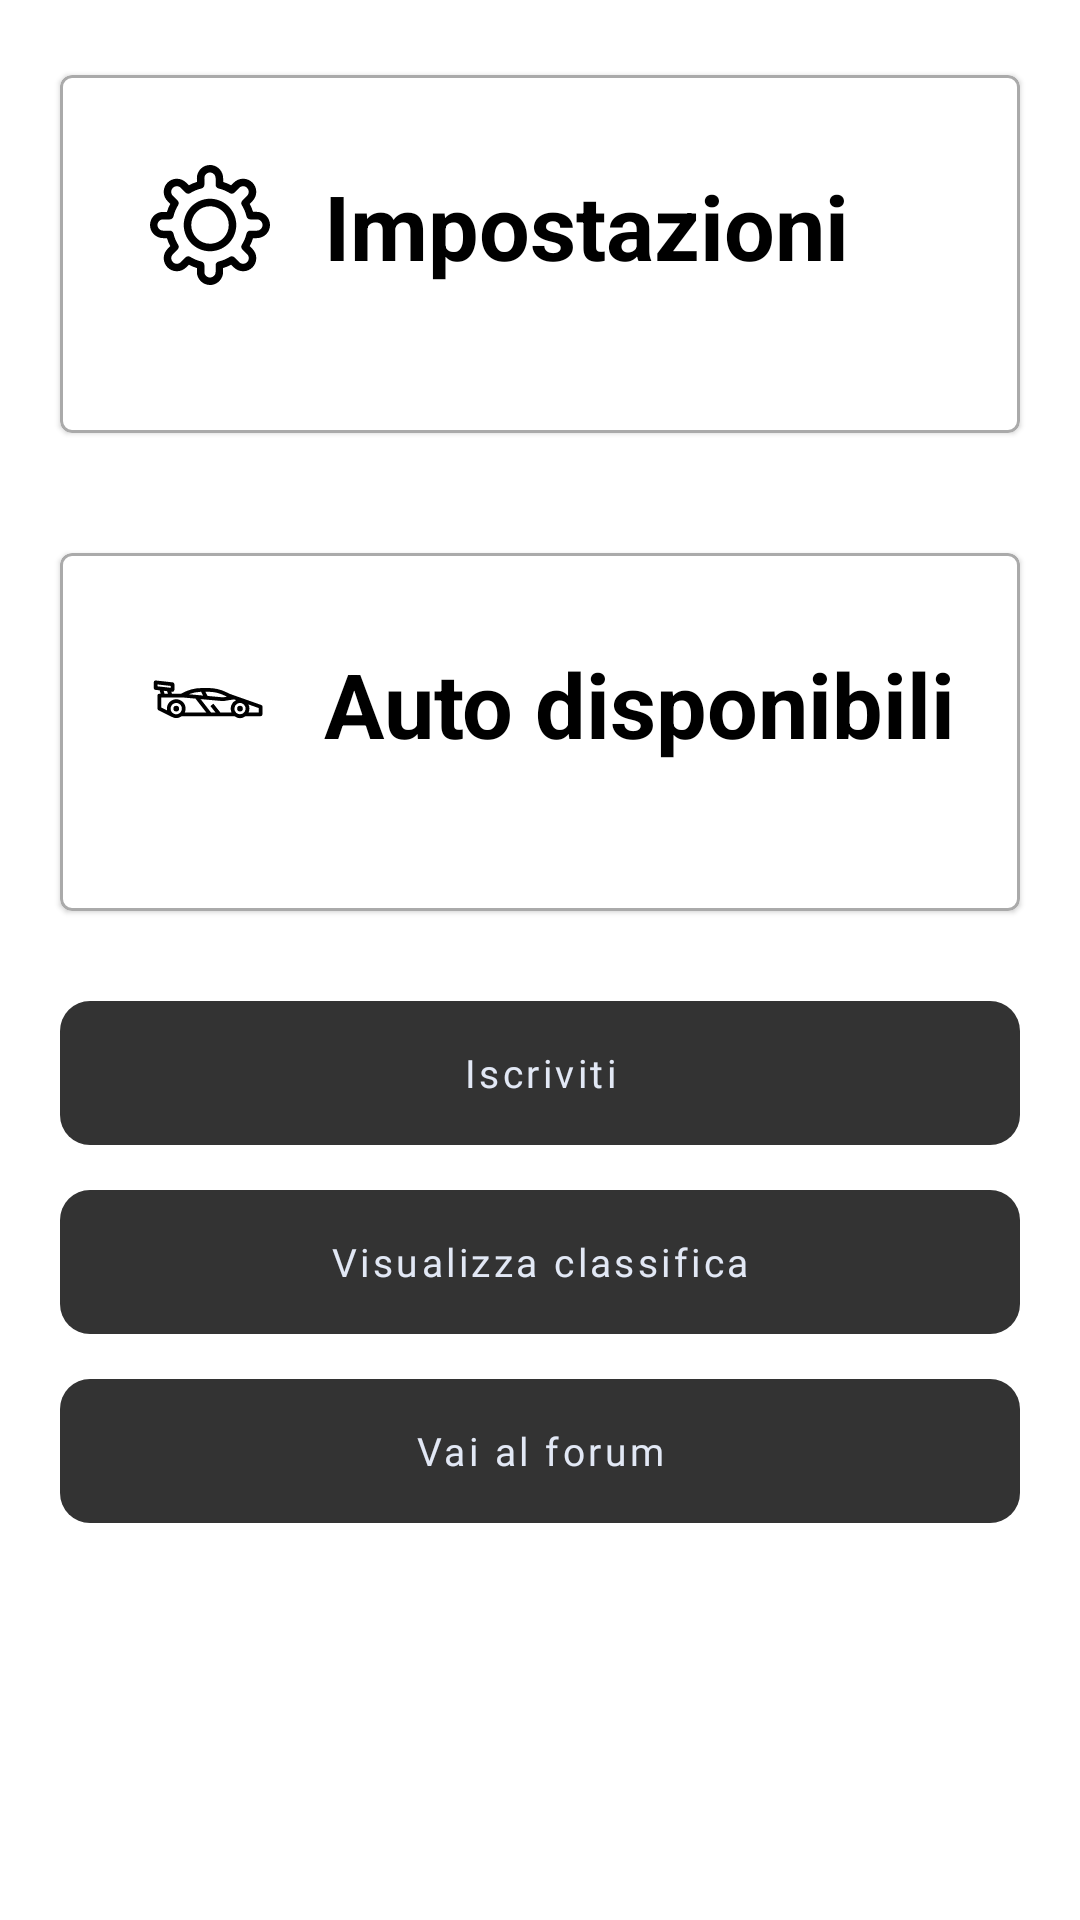

Named icons in this screenshot (1080px x 1920px) and their bounding boxes, (x1, y1, x2, y2):
car: (153, 680, 263, 719)
settings: (150, 165, 270, 285)
